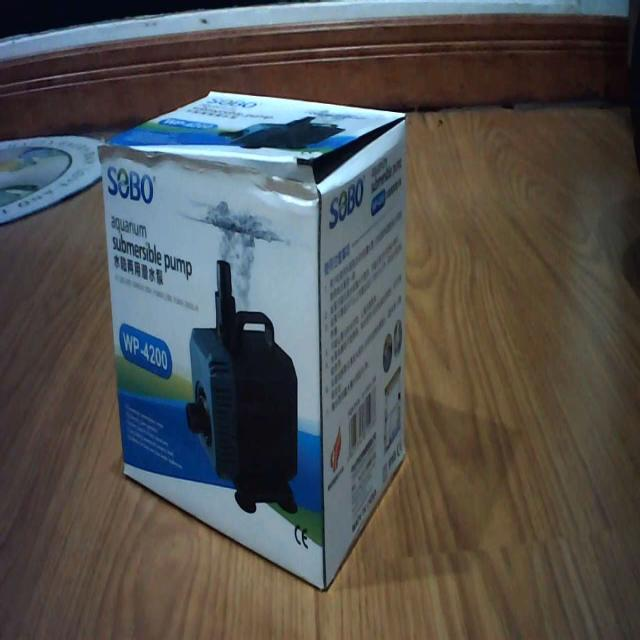SOBO_WP_4200: (93, 87, 409, 591)
